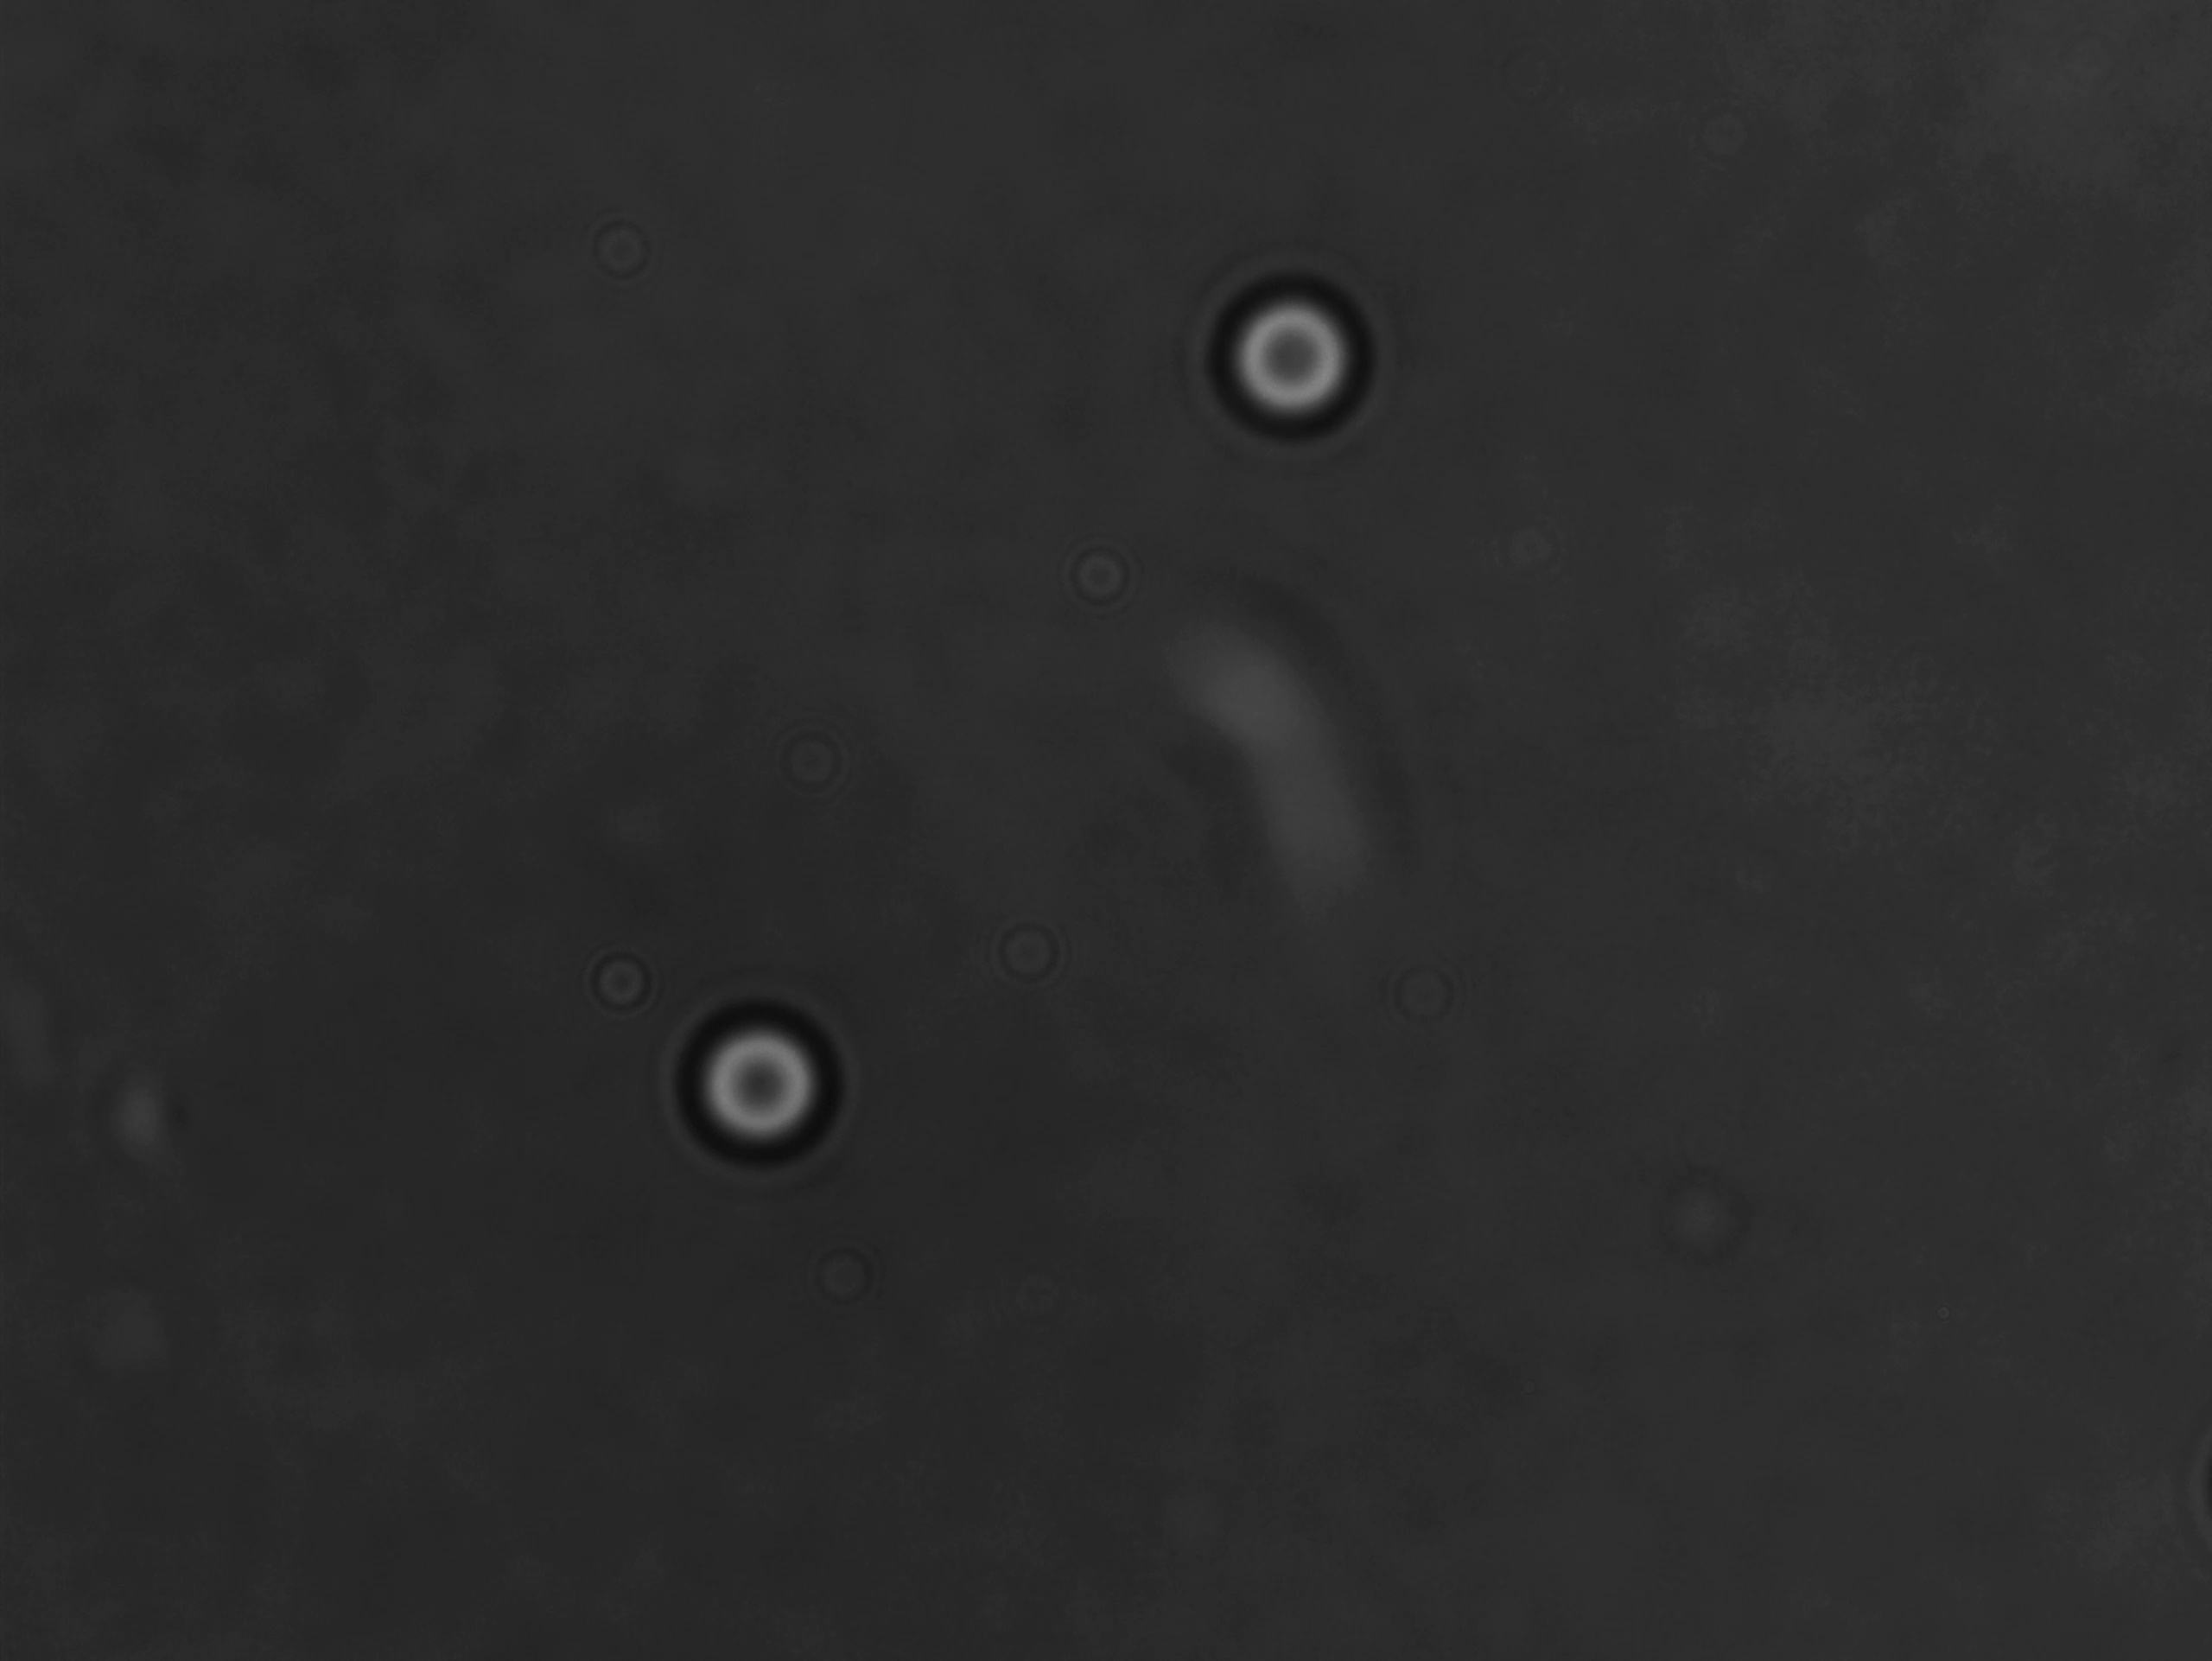depth:40: (1198, 249, 1418, 450), (668, 995, 850, 1179)
